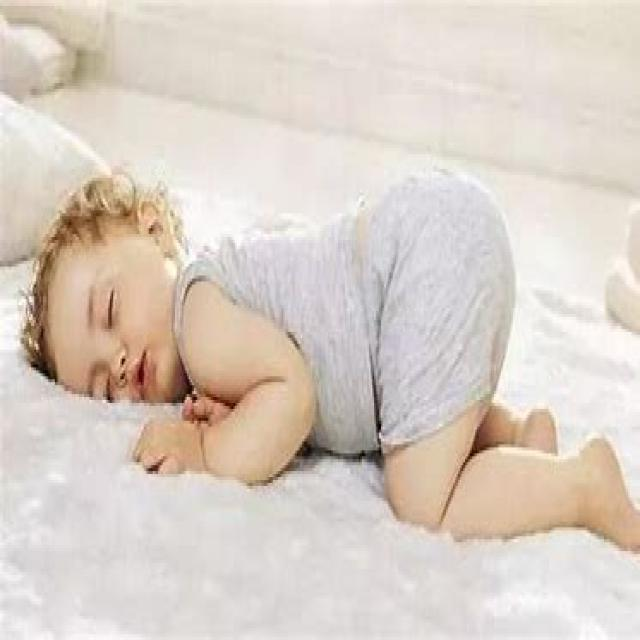lie: (20, 183, 608, 535)
